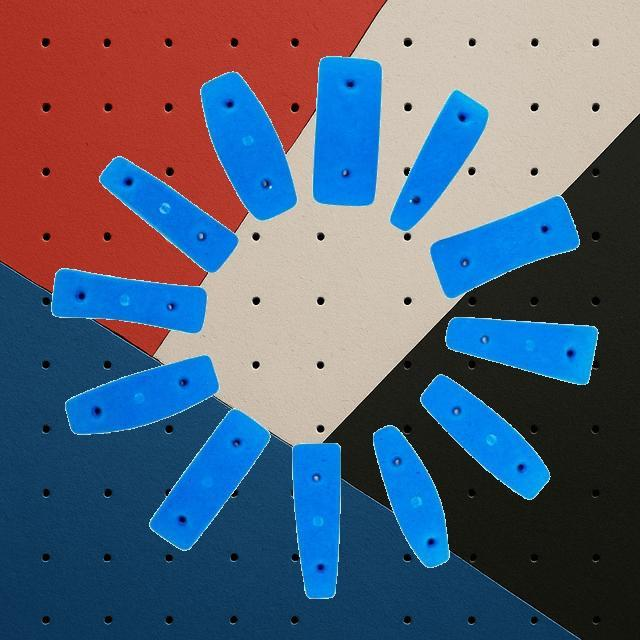Pinch: (149, 408, 269, 550), (98, 155, 238, 273), (420, 373, 550, 499), (429, 194, 579, 298), (389, 88, 489, 232), (200, 70, 296, 220), (64, 354, 220, 434), (372, 424, 450, 568), (312, 56, 382, 206), (445, 316, 597, 384), (51, 267, 207, 333), (292, 442, 341, 598)
